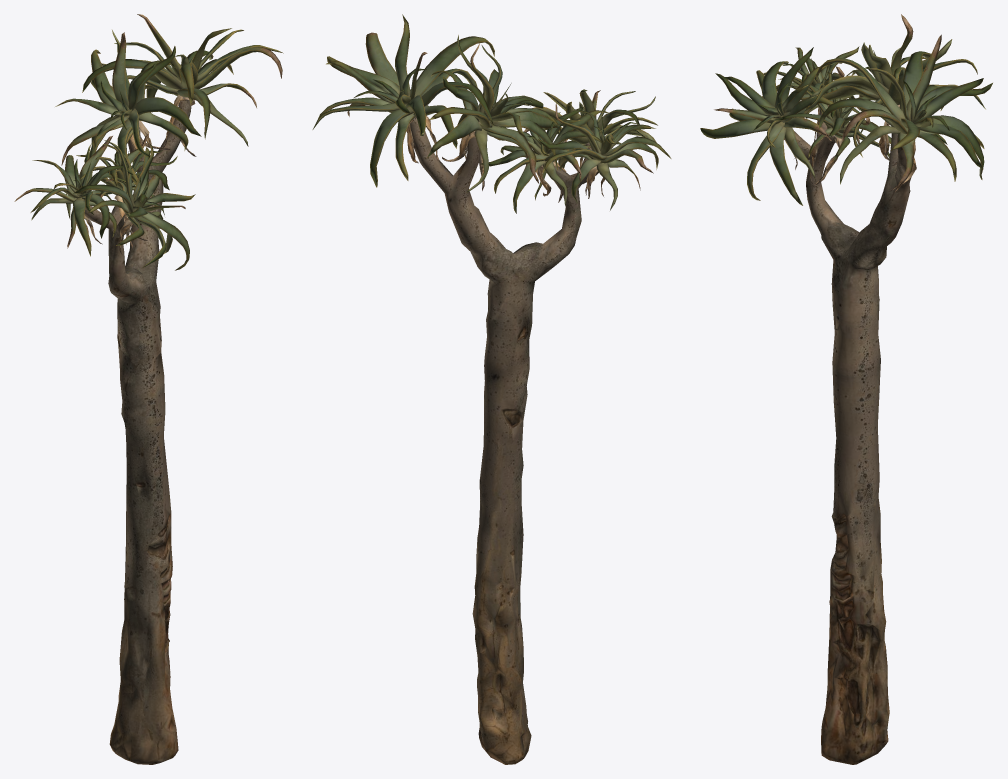
File: street-tree.glb
The picture shows the model from 3 angles, left to right: view 1: azimuth 30°, elevation 25°; view 2: azimuth 150°, elevation 25°; view 3: azimuth 270°, elevation 25°; orthographic projection. The views are drawn at different scales.
Parts seen in each view (by area): view 1: quiver_tree_01; view 2: quiver_tree_01; view 3: quiver_tree_01.
Boxes of the visible parts, x1,y1,x2,y2 form: quiver_tree_01: (14,14,283,764); quiver_tree_01: (312,14,671,764); quiver_tree_01: (700,14,992,764).
Size of the model in its own units: 1.18 by 2.72 by 0.9676.
2 materials, 2 textured.
